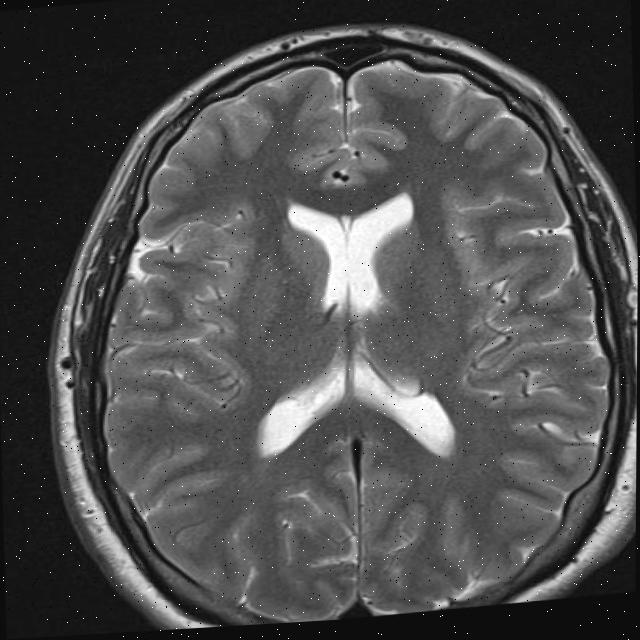NoTumor: (37, 0, 640, 638)
